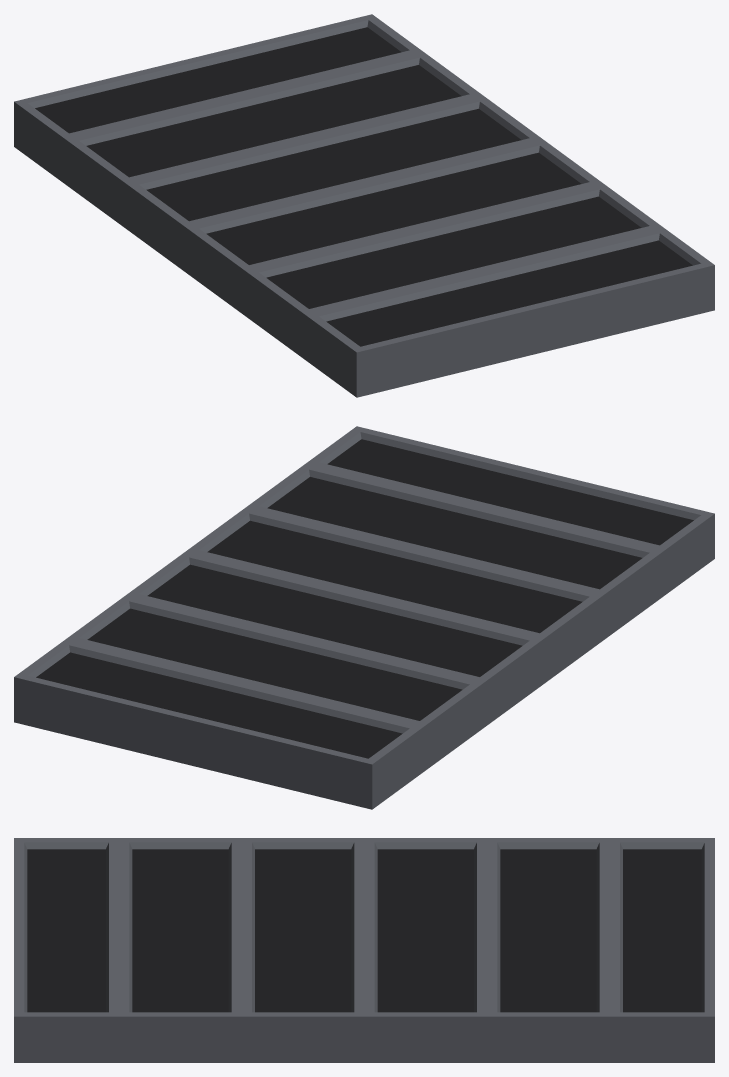
Rendered from SM_Street_Well_2.fbx.
The picture shows the model from 3 angles, top to bottom: view 1: azimuth 30°, elevation 25°; view 2: azimuth 150°, elevation 25°; view 3: azimuth 270°, elevation 25°; orthographic projection. The views are drawn at different scales.
Parts seen in each view (by area): view 1: SM_Street_Well_2_LOD0; view 2: SM_Street_Well_2_LOD0; view 3: SM_Street_Well_2_LOD0.
Boxes of the visible parts, x1=… form: SM_Street_Well_2_LOD0: x1=14, y1=14, x2=714, y2=397; SM_Street_Well_2_LOD0: x1=14, y1=426, x2=714, y2=809; SM_Street_Well_2_LOD0: x1=14, y1=838, x2=714, y2=1062.
Bounding box in the file's own units: 41.42 × 68.66 × 5.
1 material, 1 textured.
